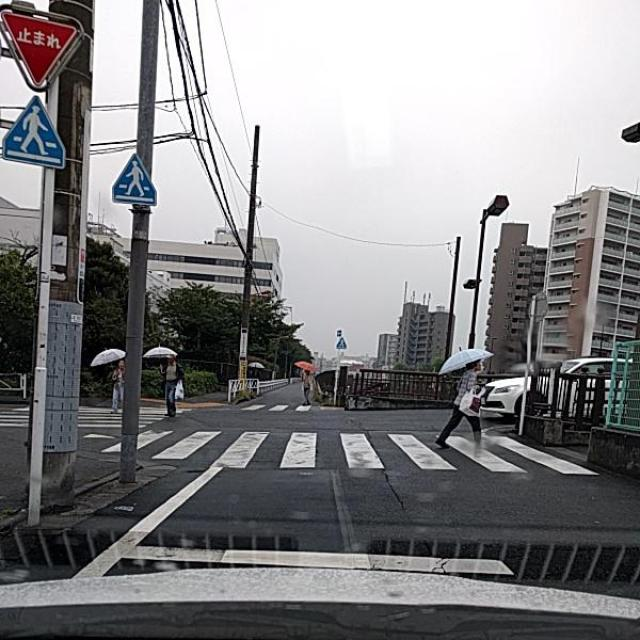Crack: (337, 434, 438, 532)
